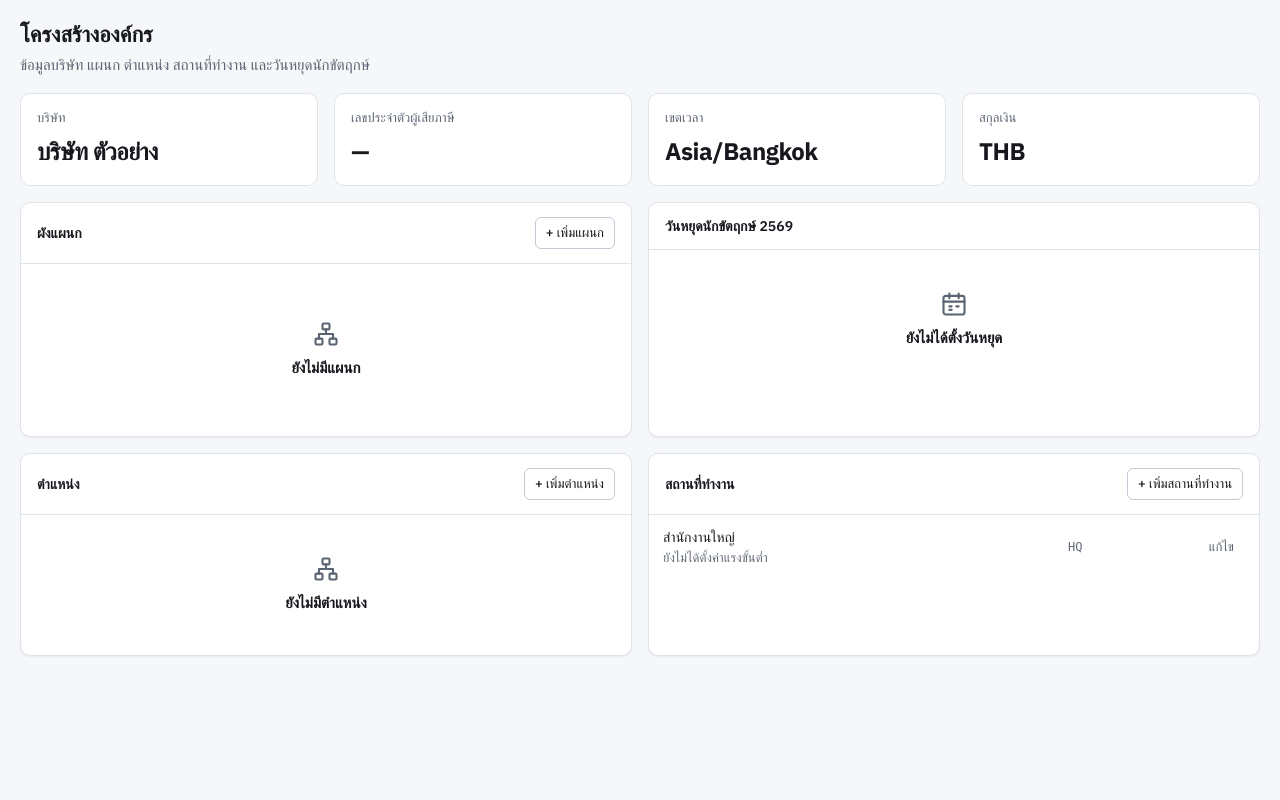
it: Organisation: adding the records an employee import names (CW-072) › sets a work location minimum wage with its source, but never its code (CW-069)
This screenshot has width=1280, height=800.
Later steps or results of the test are not shown.
Expected: the text "ยังไม่ได้ตั้งค่าแรงขั้นต่ำ" is shown, [663,549,768,566]
Click the button with aria-label "แก้ไข สำนักงานใหญ่" at [1221, 547], box [1198,531,1245,563]
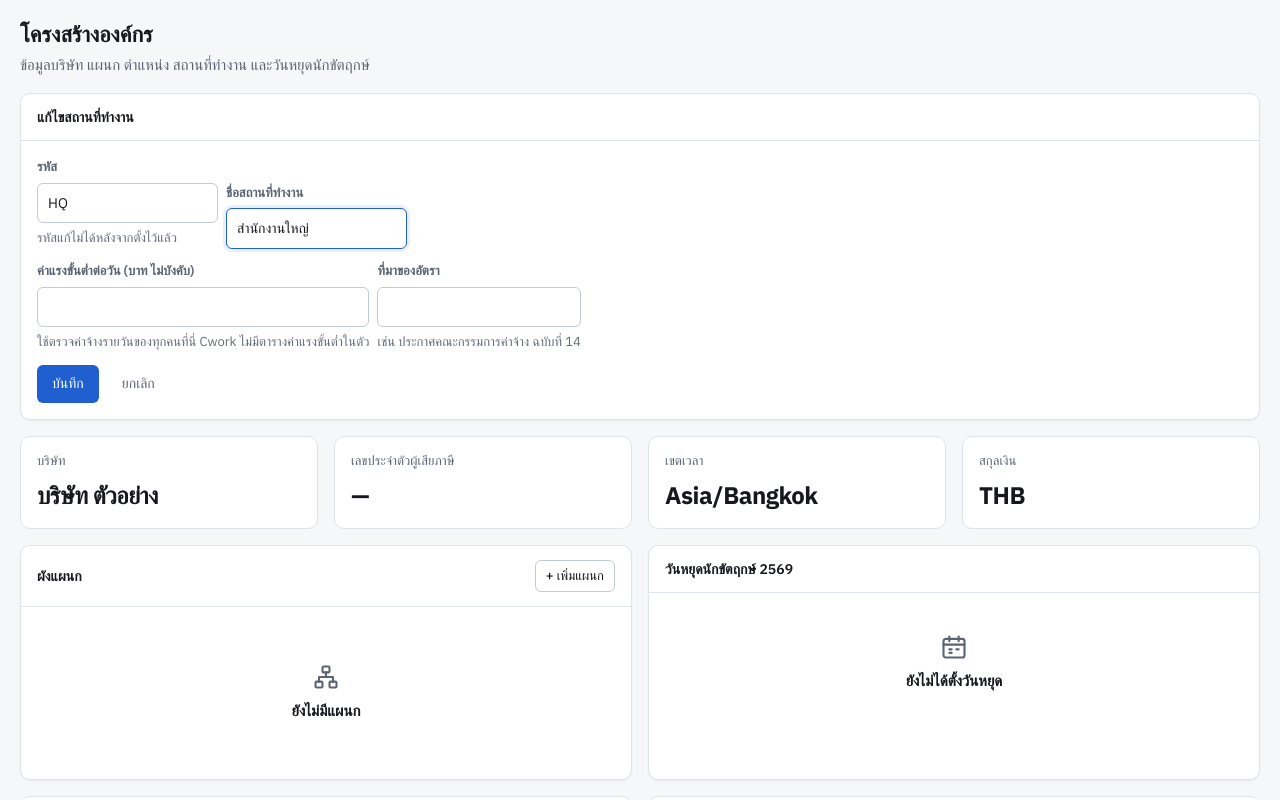
# A rate without the announcement it comes from is refused before sending.
Type "400" into the field labelled "ค่าแรงขั้นต่ำต่อวัน (บาท ไม่บังคับ)" at [203, 307], box [37,287,370,327]
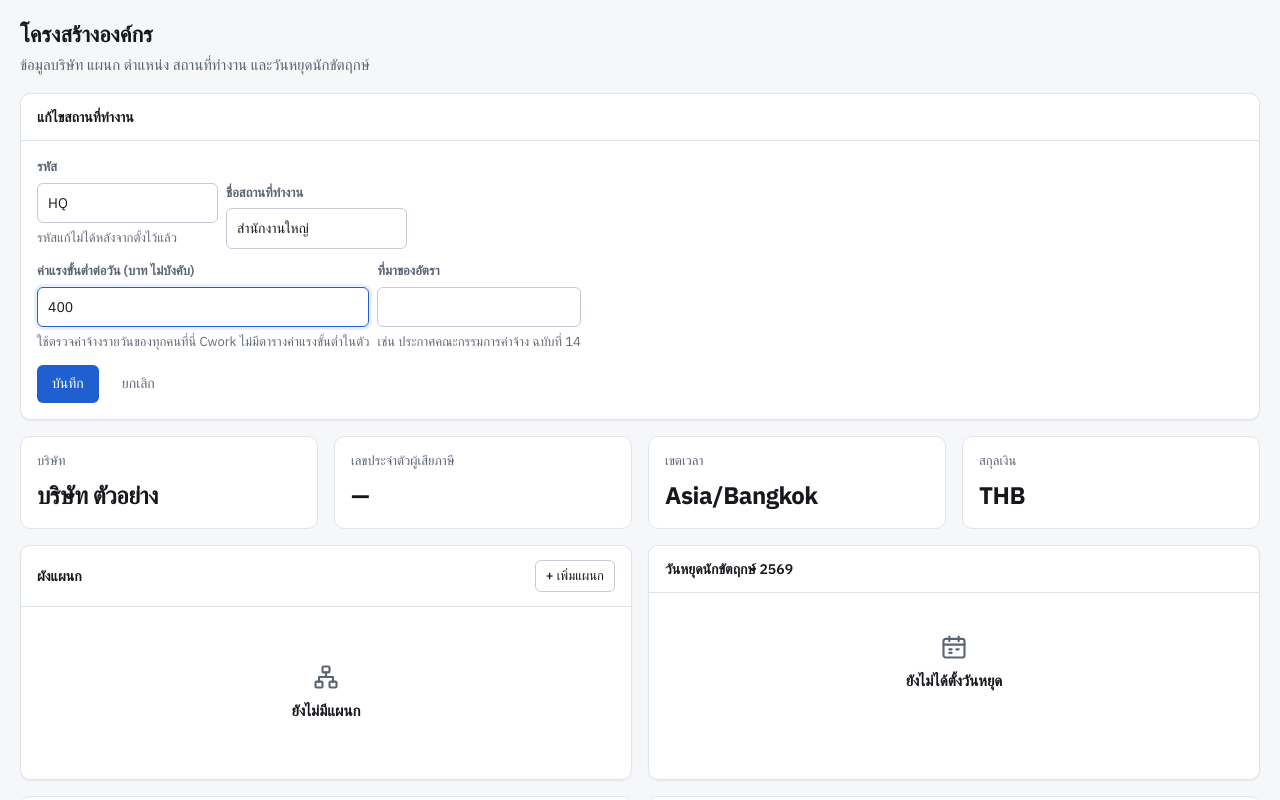
Click the button "บันทึก" at [68, 384], box [37,365,99,403]
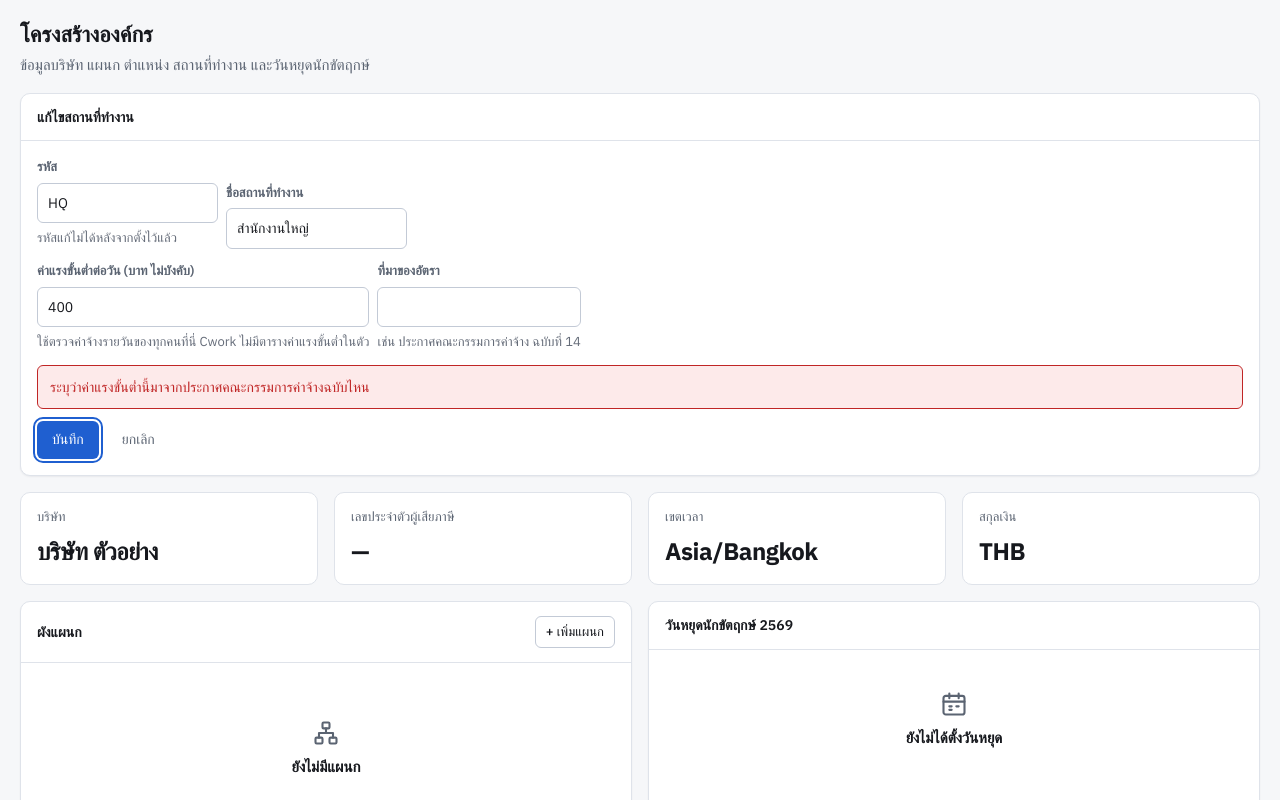
Result: the message reads "ระบุว่าค่าแรงขั้นต่ำนี้มาจากประกาศคณะกรรมการค่าจ้างฉบับไหน" at [50,378,370,396]
